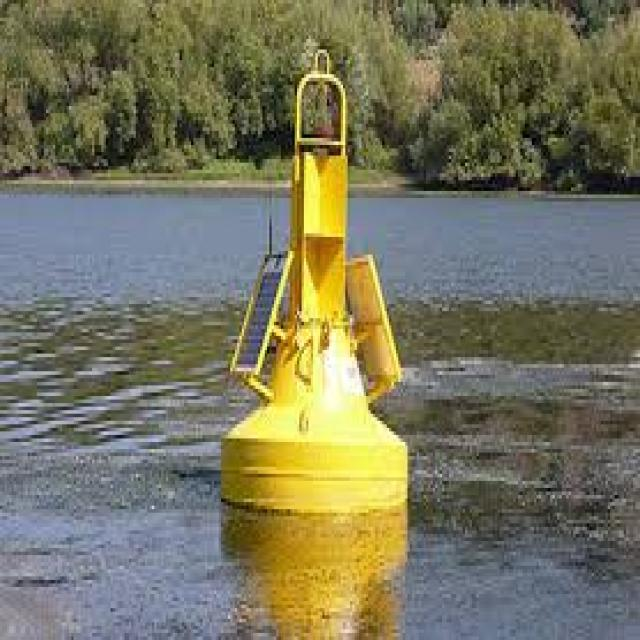marque: (205, 32, 419, 542)
